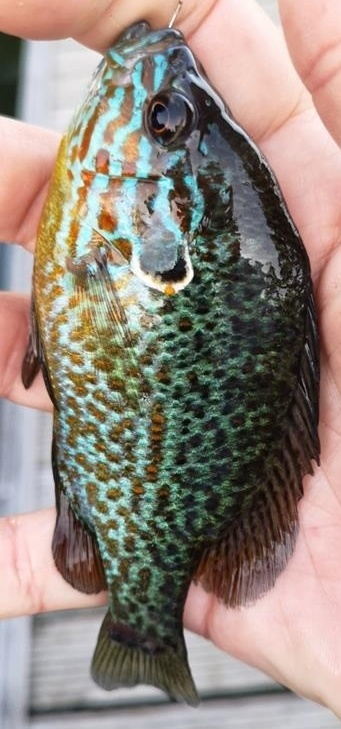Lepomis gibbosus: (20, 20, 321, 709)
